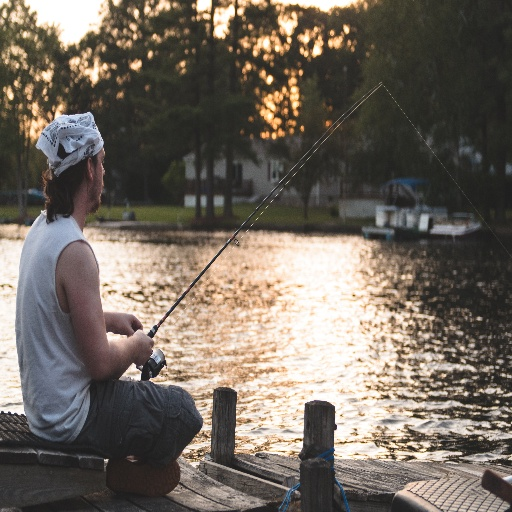hand: (109, 311, 144, 340), (132, 327, 153, 366)
